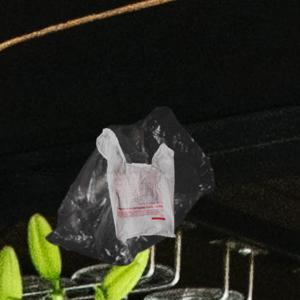plastic_bag: (93, 124, 178, 244)
